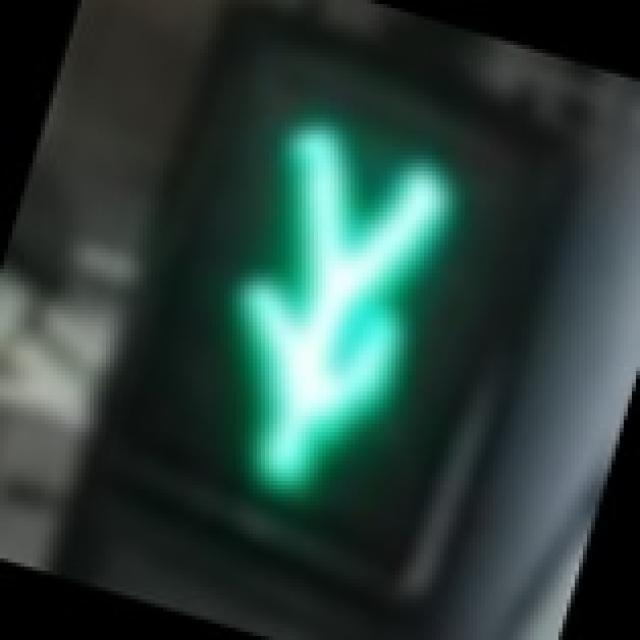green_light: (110, 65, 518, 563)
